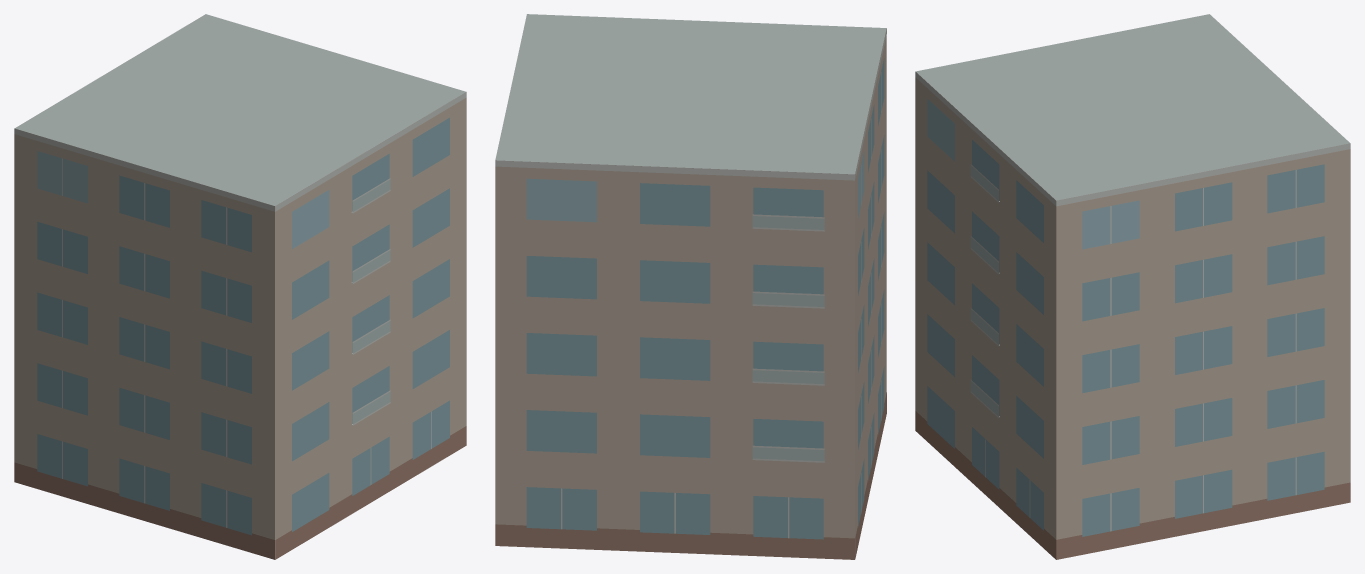
File: residential-fc90d6f6-470e-4312-95cc-e03dc0b170c9.glb
3 renders of one model, left to right at view 1: azimuth 30°, elevation 25°; view 2: azimuth 150°, elevation 25°; view 3: azimuth 270°, elevation 25°, orthographic. The views are drawn at different scales.
Visible parts, largest first — view 1: residential-fc90d6f6-470e-4312-95cc-e03dc0b170c9.tmp; view 2: residential-fc90d6f6-470e-4312-95cc-e03dc0b170c9.tmp; view 3: residential-fc90d6f6-470e-4312-95cc-e03dc0b170c9.tmp.
Boxes of the visible parts, x1,y1,x2,y2 form: residential-fc90d6f6-470e-4312-95cc-e03dc0b170c9.tmp: [14, 14, 466, 559]; residential-fc90d6f6-470e-4312-95cc-e03dc0b170c9.tmp: [495, 14, 886, 559]; residential-fc90d6f6-470e-4312-95cc-e03dc0b170c9.tmp: [915, 14, 1350, 559].
Bounding box in the file's own units: 17 × 15.25 × 16.75.
